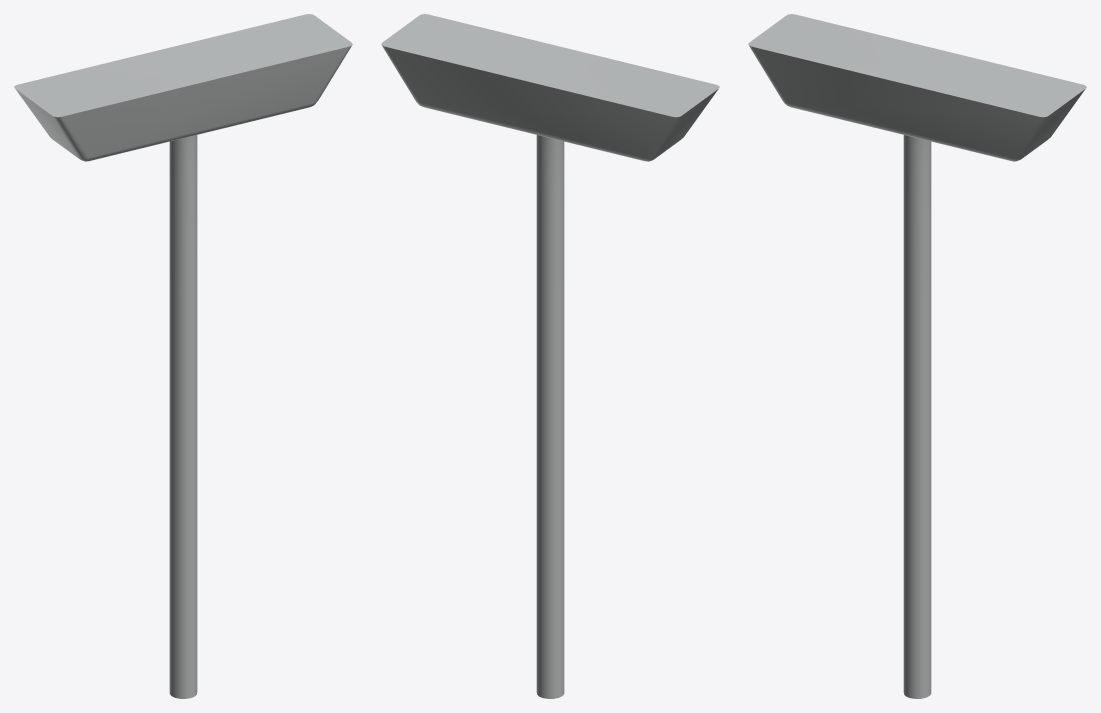
File: BarSign04_2.FBX
3 renders of one model, left to right at view 1: azimuth 30°, elevation 25°; view 2: azimuth 150°, elevation 25°; view 3: azimuth 330°, elevation 25°, orthographic.
Parts seen in each view (by area): view 1: BarSign04_2; view 2: BarSign04_2; view 3: BarSign04_2.
Part boxes in pixels (<box>): BarSign04_2: <box>14,14,352,698</box>; BarSign04_2: <box>381,14,719,698</box>; BarSign04_2: <box>748,14,1086,698</box>.
Size of what is drawn, in the model's own units: 0.2763 by 0.5531 by 0.0702.
